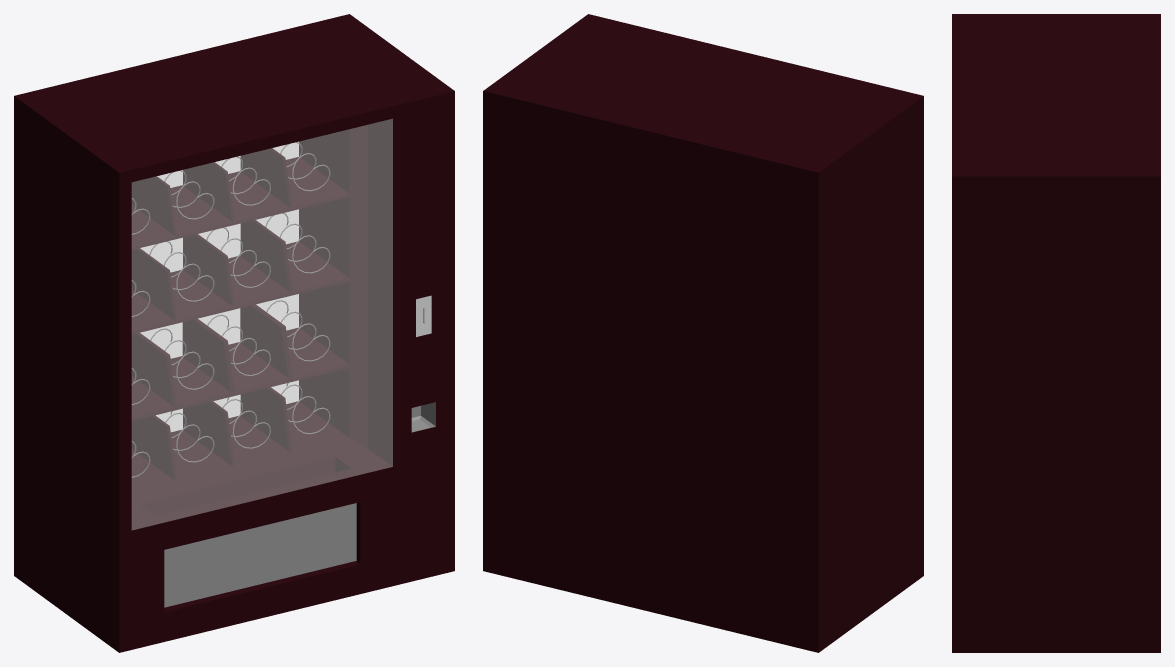
The model's file is VendingMachineHD.glb.
The picture shows the model from 3 angles, left to right: view 1: azimuth 30°, elevation 25°; view 2: azimuth 150°, elevation 25°; view 3: azimuth 270°, elevation 25°; orthographic projection.
Parts seen in each view (by area): view 1: VendingMachine; view 2: VendingMachine; view 3: VendingMachine.
Boxes of the visible parts, x1=… form: VendingMachine: x1=14, y1=14, x2=454, y2=652; VendingMachine: x1=483, y1=14, x2=923, y2=652; VendingMachine: x1=952, y1=14, x2=1160, y2=652.
Size of the model in its own units: 0.46 by 0.629 by 0.2497.
